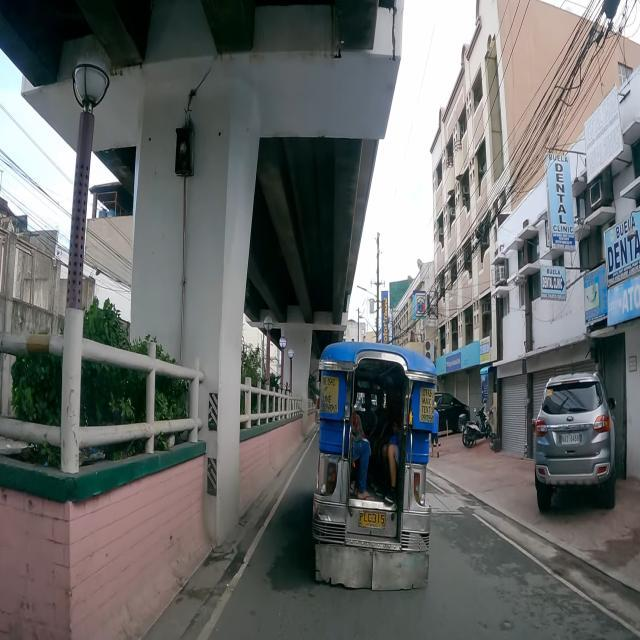car: (532, 372, 616, 512), (434, 393, 470, 433)
jeepney: (313, 342, 437, 591)
motorcycle: (460, 402, 492, 448)
